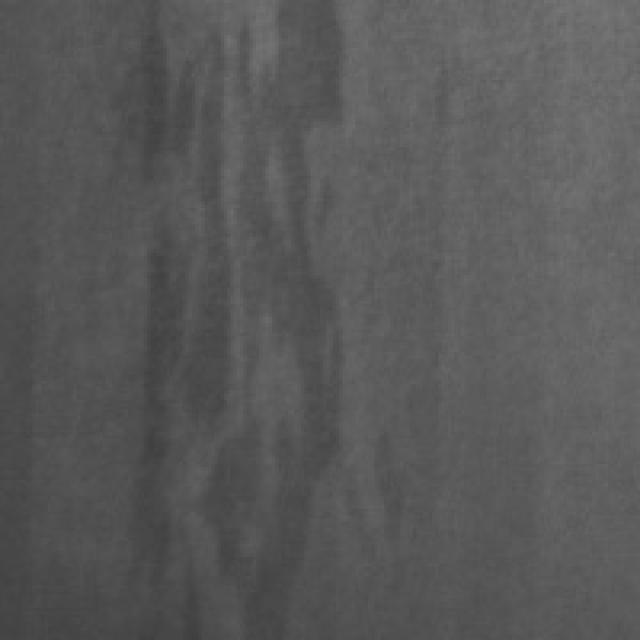inclusion: (118, 0, 345, 630)
